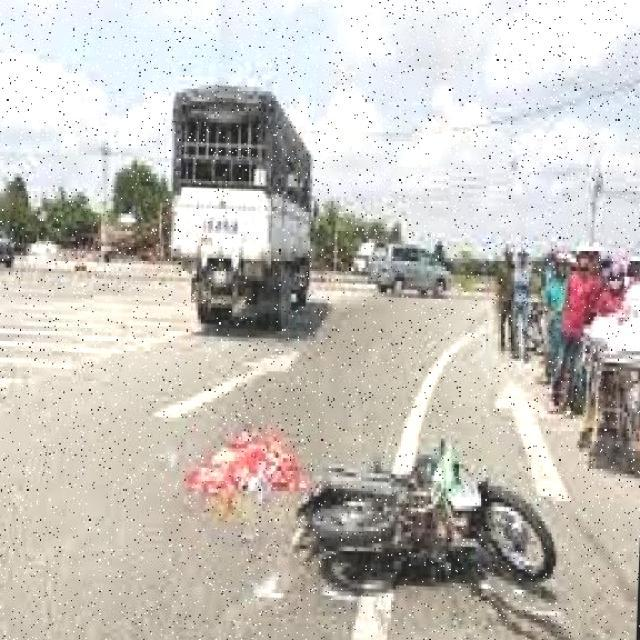accident: (280, 389, 578, 634)
